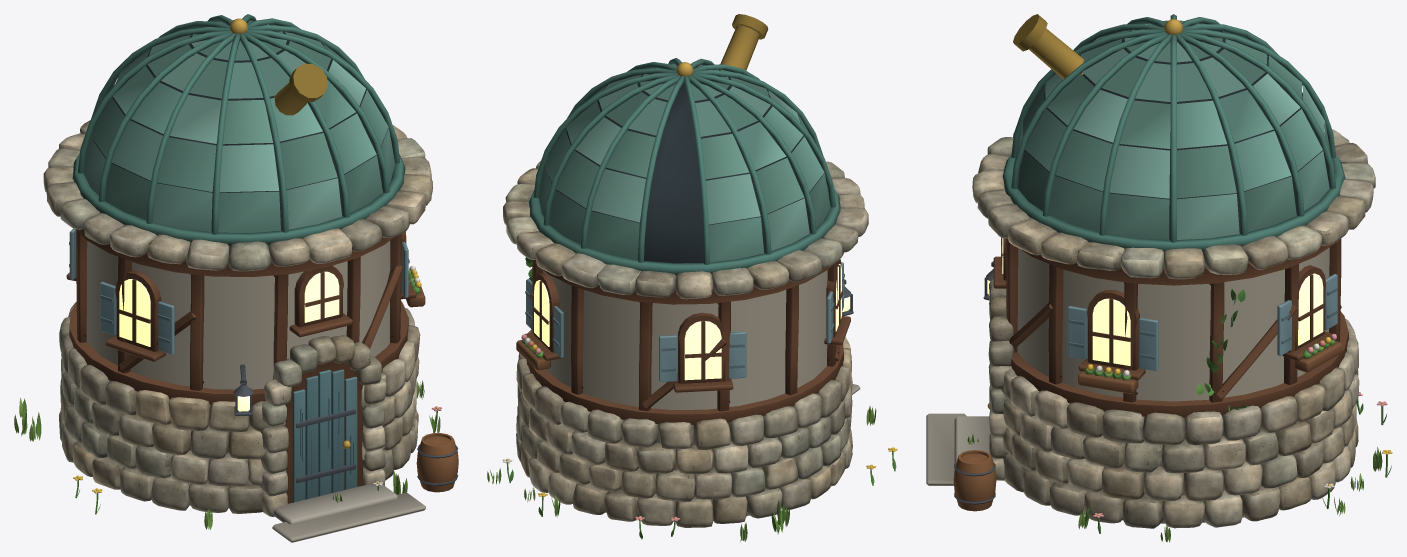
The model's file is observatory.gltf.
3 views of the same model, side by side, from view 1: azimuth 30°, elevation 25°; view 2: azimuth 150°, elevation 25°; view 3: azimuth 270°, elevation 25° (orthographic). The views are drawn at different scales.
Visible parts, largest first — view 1: Dome, Observatory, Stones; view 2: Dome, Stones, Observatory; view 3: Dome, Stones, Observatory.
Boxes of the visible parts, x1,y1,x2,y2 form: Dome: (72,14,405,246); Observatory: (14,190,458,542); Stones: (43,120,432,516); Dome: (528,14,840,275); Stones: (503,161,868,527); Observatory: (487,252,897,541); Dome: (1002,14,1345,251); Stones: (972,129,1375,528); Observatory: (926,180,1392,542).
Size of the model in its own units: 5.38 by 5.98 by 5.75.
39 materials, 1 textured.
